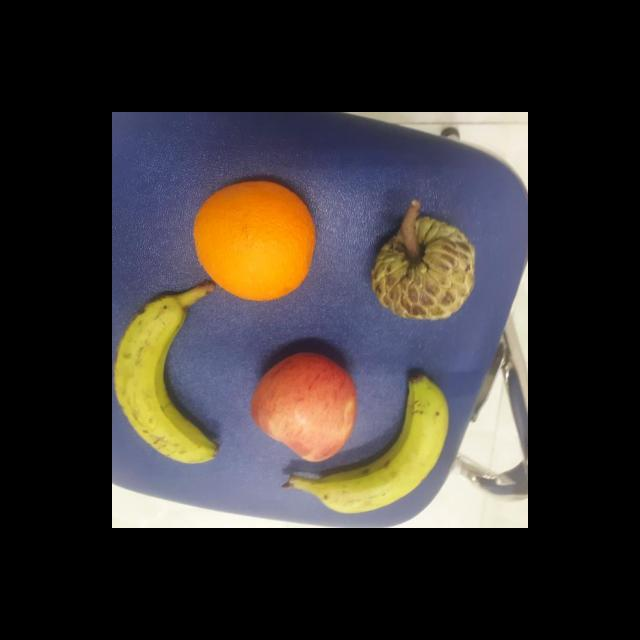Sakya fruit: (366, 216, 482, 324)
apple: (243, 353, 365, 462)
banana: (112, 281, 222, 466)
orange: (187, 179, 322, 303)
